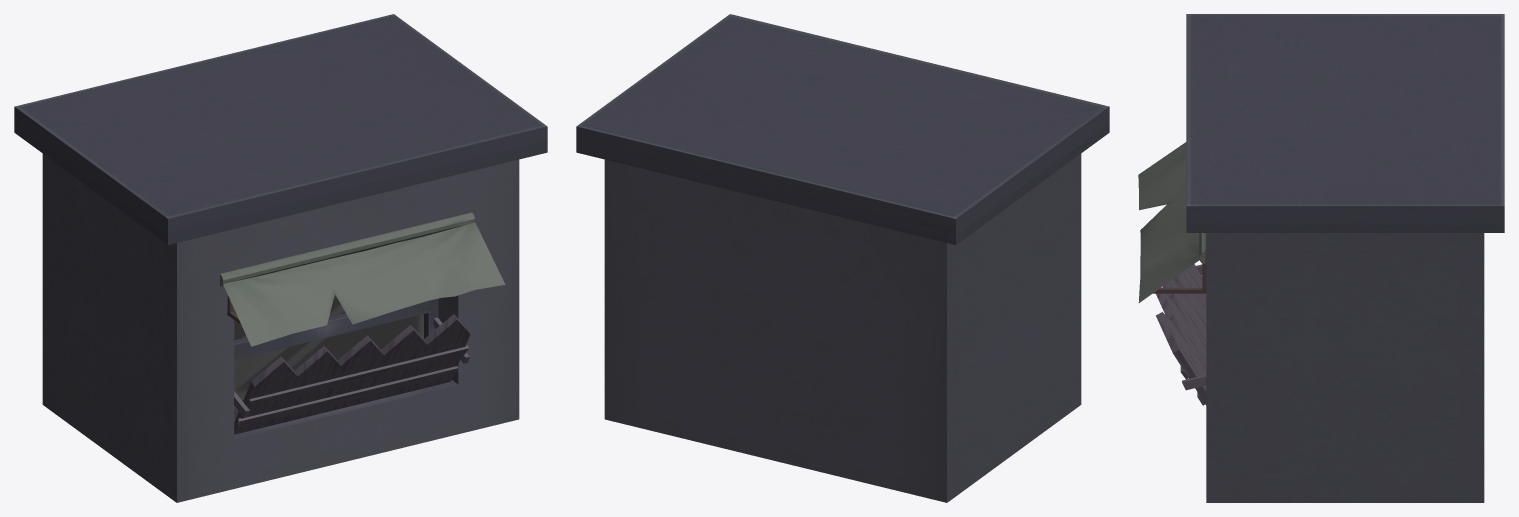
The model's file is S1_mod_BarBuilding_004.fbx.
3 views of the same model, side by side, from view 1: azimuth 30°, elevation 25°; view 2: azimuth 150°, elevation 25°; view 3: azimuth 270°, elevation 25° (orthographic). The views are drawn at different scales.
Visible parts, largest first — view 1: S1_mod_BarBuilding_004; view 2: S1_mod_BarBuilding_004; view 3: S1_mod_BarBuilding_004.
Part boxes in pixels (x1=…): S1_mod_BarBuilding_004: x1=14, y1=14, x2=547, y2=502; S1_mod_BarBuilding_004: x1=576, y1=14, x2=1109, y2=502; S1_mod_BarBuilding_004: x1=1138, y1=14, x2=1504, y2=502.
Size of the model in its own units: 461 by 343 by 372.
